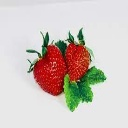strawberry: (27, 41, 68, 97), (61, 38, 91, 85)
